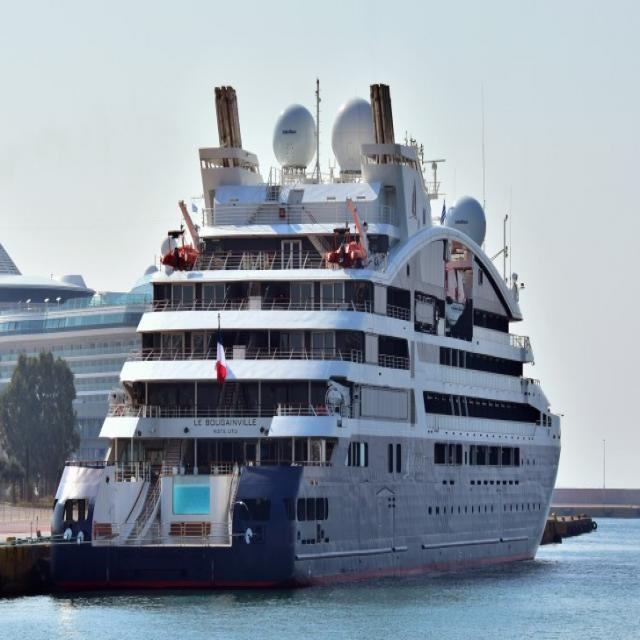cruises: (47, 71, 565, 604)
